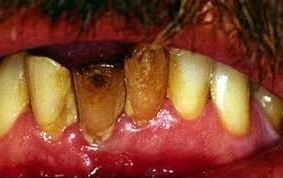Tooth Discoloration: (70, 38, 167, 145)
